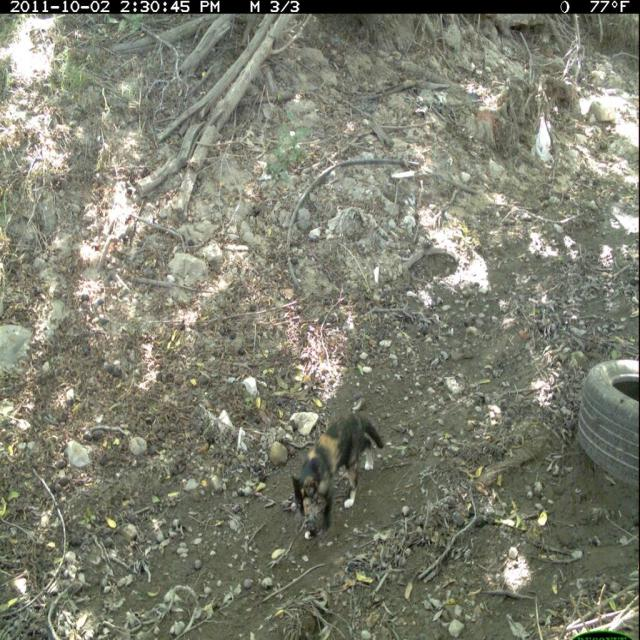cat: (289, 408, 390, 542)
